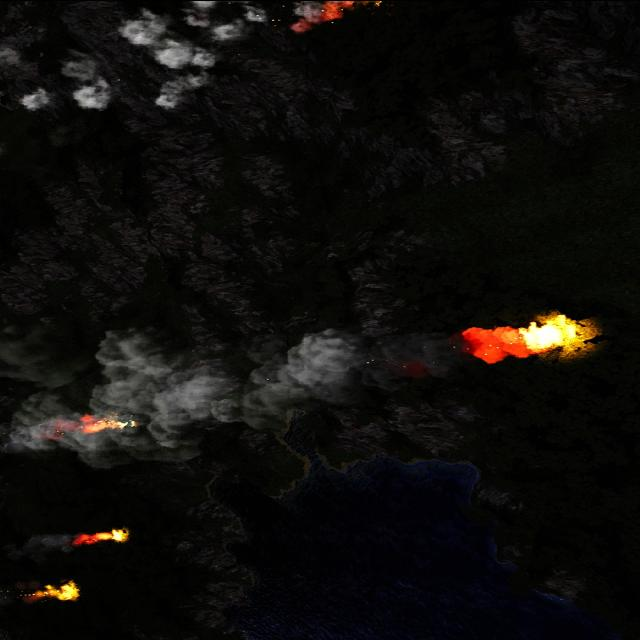fire: (515, 311, 585, 351), (79, 412, 136, 432), (36, 582, 80, 600), (92, 528, 126, 542)
smoke: (0, 324, 532, 461), (116, 2, 391, 114), (58, 46, 116, 110), (2, 532, 94, 560), (0, 588, 39, 612), (19, 87, 55, 111)
